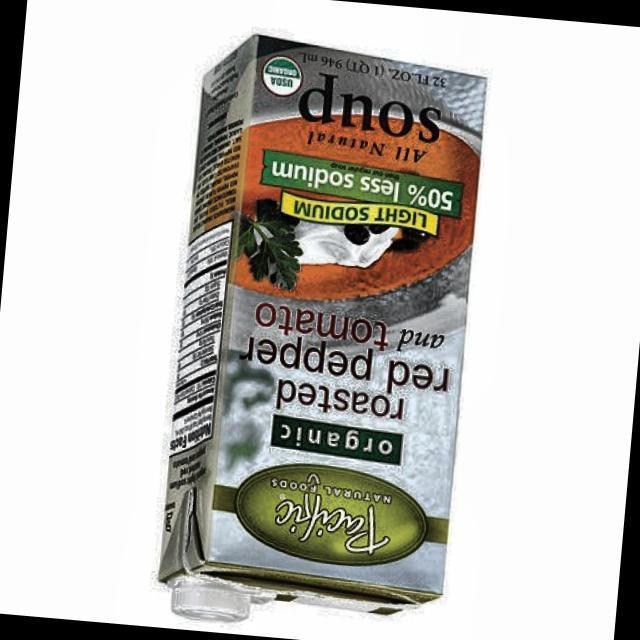cardboard: (154, 30, 492, 626)
